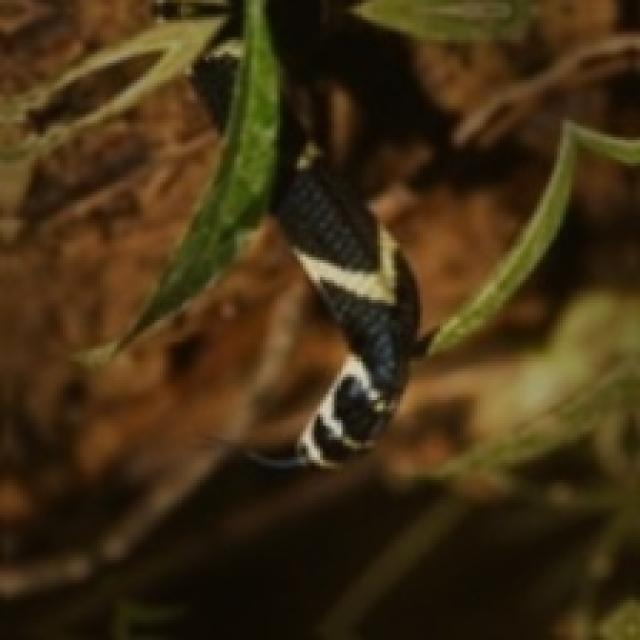king cobra: (117, 0, 277, 346), (249, 151, 417, 463)
